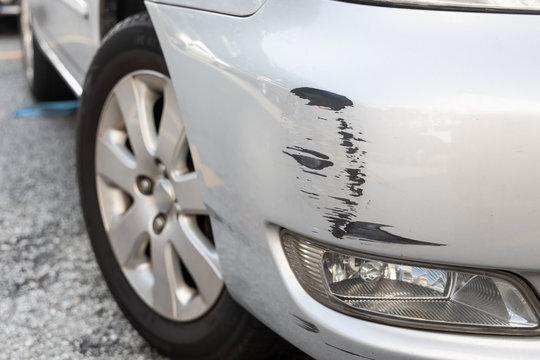scratch: (279, 79, 465, 250), (262, 306, 383, 359)
